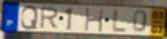0: (132, 9, 150, 35)
1: (64, 7, 74, 31)
H: (84, 7, 105, 34)
L: (111, 8, 127, 34)
Q: (20, 5, 39, 31)
R: (38, 6, 61, 30)
